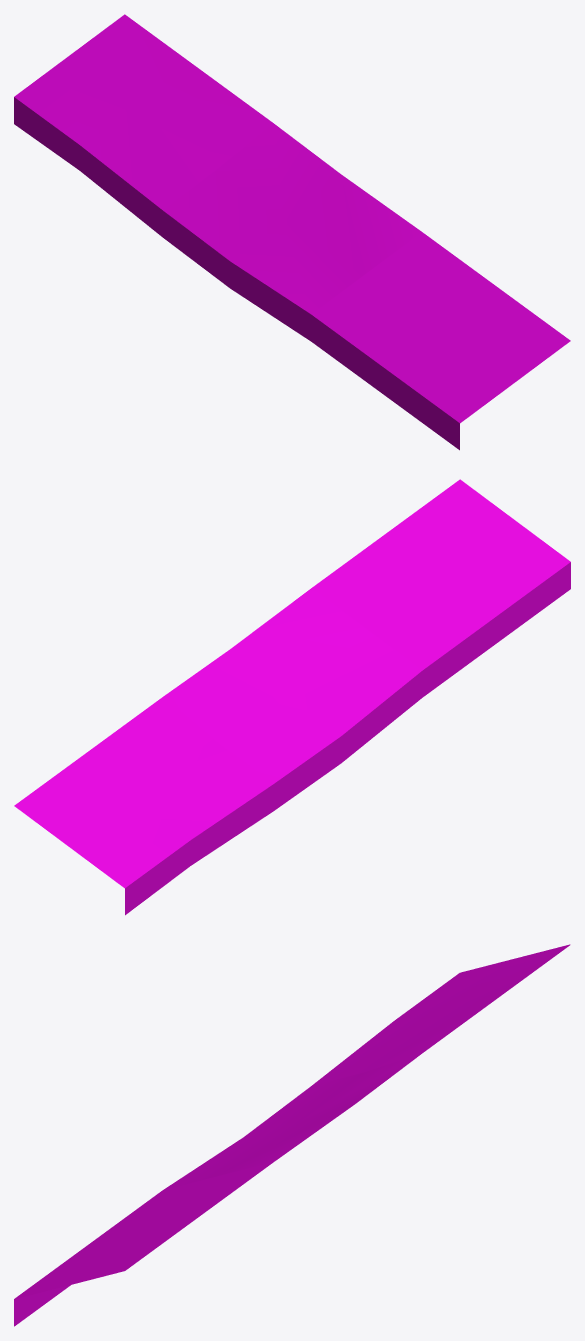
File: Storefront_Awnings_01.fbx
3 renders of one model, top to bottom at view 1: azimuth 30°, elevation 25°; view 2: azimuth 150°, elevation 25°; view 3: azimuth 330°, elevation 25°, orthographic.
Visible parts, largest first — view 1: Storefront_Awnings_01; view 2: Storefront_Awnings_01; view 3: Storefront_Awnings_01.
Boxes of the visible parts, <box> form: Storefront_Awnings_01: <box>14,14,570,450</box>; Storefront_Awnings_01: <box>14,479,570,915</box>; Storefront_Awnings_01: <box>14,944,570,1326</box>.
Bounding box in the file's own units: 122 × 93.29 × 845.
